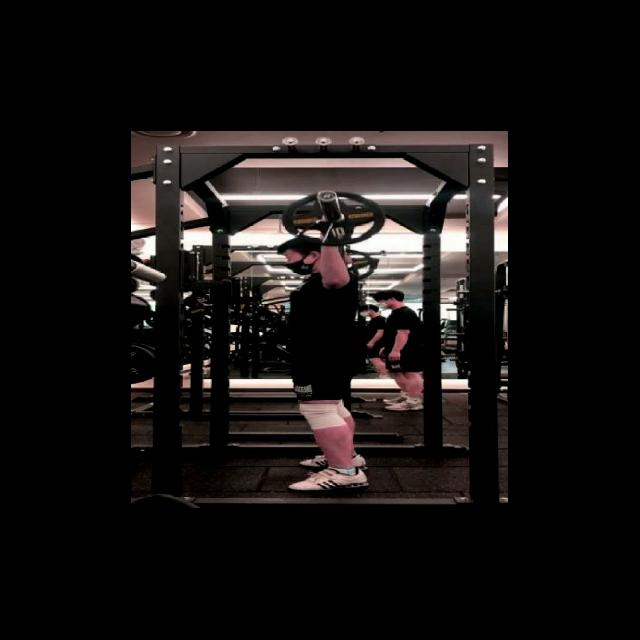barbell: (276, 185, 389, 248)
